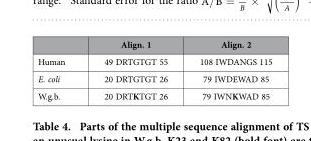table: (37, 37, 271, 101)
table column: (84, 37, 183, 101), (183, 37, 271, 101), (37, 37, 84, 101)
table column header: (37, 37, 271, 52)
table row: (37, 52, 271, 69), (37, 69, 271, 86), (37, 37, 271, 52), (37, 86, 271, 101)
